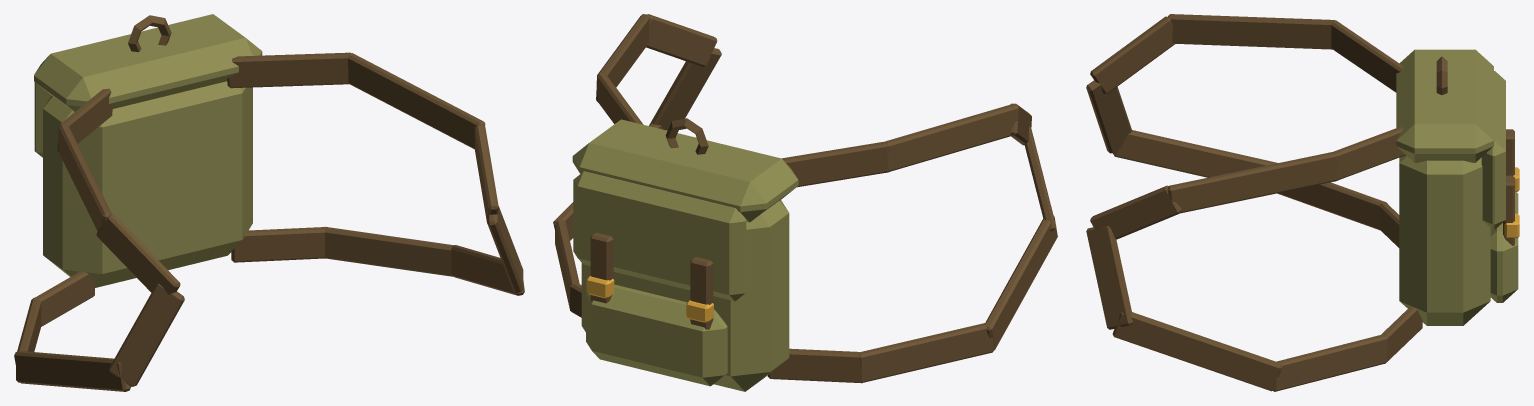
File: backpack.glb
3 renders of one model, left to right at view 1: azimuth 30°, elevation 25°; view 2: azimuth 150°, elevation 25°; view 3: azimuth 270°, elevation 25°, orthographic. The views are drawn at different scales.
Parts seen in each view (by area): view 1: backpack; view 2: backpack; view 3: backpack.
Boxes of the visible parts, x1=… form: backpack: x1=14, y1=14, x2=524, y2=391; backpack: x1=553, y1=14, x2=1057, y2=391; backpack: x1=1086, y1=14, x2=1519, y2=391.
Bounding box in the file's own units: 0.7924 × 0.4341 × 0.7119.
